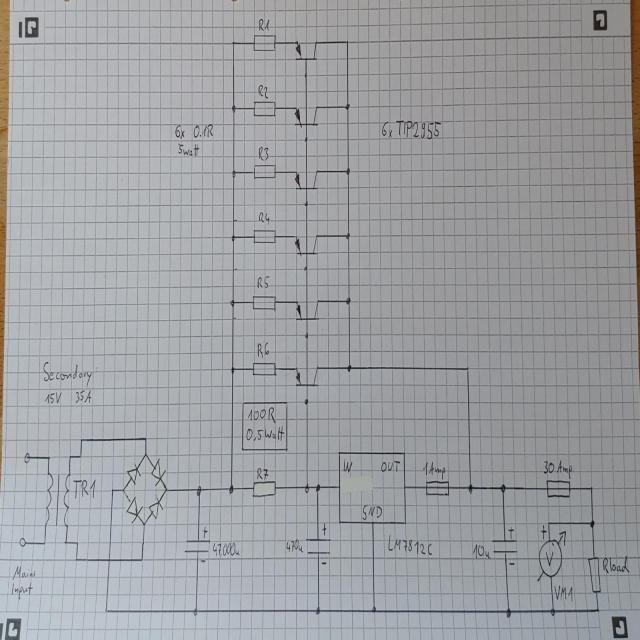capacitor: (304, 520, 332, 566), (491, 525, 518, 566), (183, 524, 210, 564)
crossover: (106, 554, 111, 564)
diode: (125, 494, 142, 524), (150, 458, 165, 487), (147, 494, 163, 520), (126, 462, 141, 484)
junction: (466, 482, 474, 494), (504, 607, 512, 618), (588, 517, 596, 528), (227, 483, 234, 495), (499, 482, 506, 494), (303, 481, 310, 493), (314, 605, 321, 616), (314, 481, 320, 493), (230, 167, 237, 177), (196, 485, 202, 496), (230, 103, 237, 112), (549, 606, 555, 616), (345, 295, 351, 305), (192, 606, 198, 616), (140, 518, 146, 528), (229, 364, 235, 373), (230, 232, 236, 241), (229, 298, 235, 307), (346, 363, 352, 372), (162, 485, 168, 494), (142, 449, 148, 458), (546, 518, 552, 527), (67, 451, 72, 461), (121, 484, 126, 494), (594, 606, 600, 614), (230, 39, 236, 47), (344, 102, 350, 110), (588, 484, 594, 492), (142, 434, 148, 442), (74, 539, 80, 547), (303, 330, 309, 338), (304, 397, 310, 405), (345, 166, 350, 175), (345, 231, 350, 240), (371, 605, 376, 614), (78, 436, 84, 443), (302, 264, 308, 271), (46, 452, 50, 462), (139, 555, 144, 563), (304, 198, 308, 208), (304, 70, 308, 79), (304, 134, 308, 143), (42, 538, 46, 546), (64, 538, 68, 546), (465, 364, 469, 371), (74, 555, 78, 562), (345, 38, 349, 45), (110, 486, 114, 493), (104, 607, 108, 614), (78, 452, 82, 459)
resistor: (587, 554, 601, 594), (251, 292, 276, 312), (252, 98, 276, 118), (252, 32, 276, 52), (251, 479, 276, 498), (252, 227, 276, 246), (252, 162, 276, 180), (251, 359, 276, 376)
terminal: (19, 536, 26, 548), (24, 451, 31, 463)
text: (42, 356, 98, 387), (394, 116, 441, 140), (387, 533, 432, 557), (245, 424, 284, 442), (543, 457, 572, 476), (602, 554, 629, 574), (73, 476, 96, 499), (246, 406, 276, 422), (212, 540, 240, 557), (423, 460, 446, 480), (10, 580, 33, 600), (12, 562, 36, 580), (192, 121, 213, 141), (553, 583, 574, 602), (177, 142, 200, 157), (471, 542, 490, 560), (362, 502, 382, 519), (284, 537, 304, 553), (381, 118, 394, 140), (44, 389, 63, 404), (380, 459, 400, 473), (75, 388, 92, 404), (173, 122, 186, 141), (256, 340, 269, 358), (257, 16, 271, 32), (257, 144, 269, 162), (256, 274, 270, 289), (257, 83, 269, 99), (257, 210, 270, 224), (255, 466, 268, 480), (342, 458, 353, 473)
transformer: (42, 468, 74, 525)
transistor: (293, 232, 320, 258), (294, 297, 320, 322), (294, 364, 320, 387), (293, 168, 320, 190), (293, 105, 320, 127), (294, 39, 318, 61)
